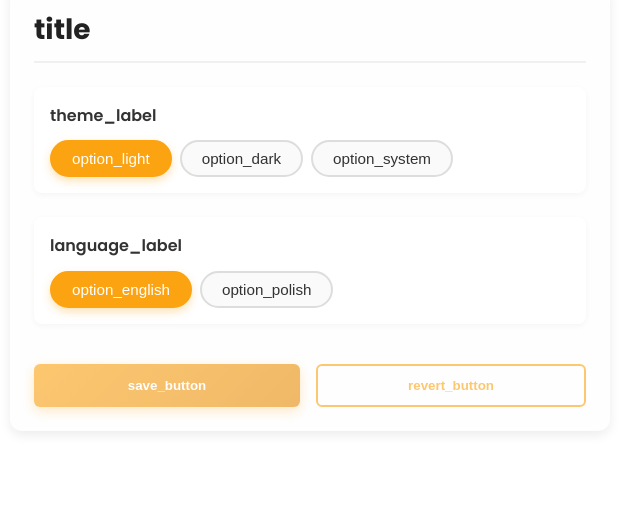
Scenario: <InterfaceSettings /> › saves settings when clicking Save
Click the button "option_dark" at (241, 159), box [180,140,303,177]
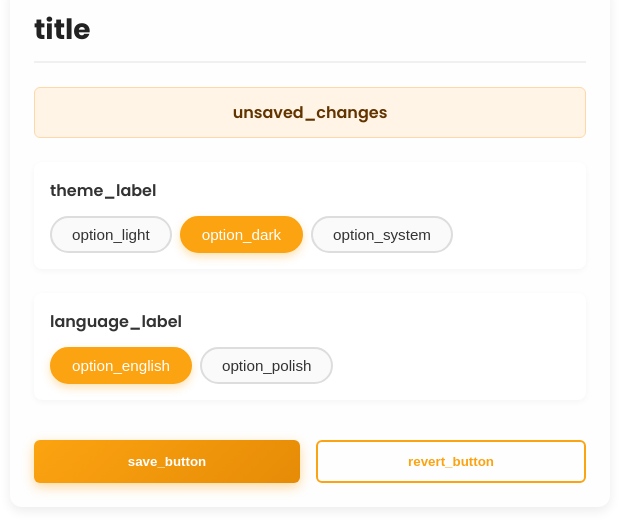
Click the button "option_polish" at (267, 365), box [200,347,334,384]
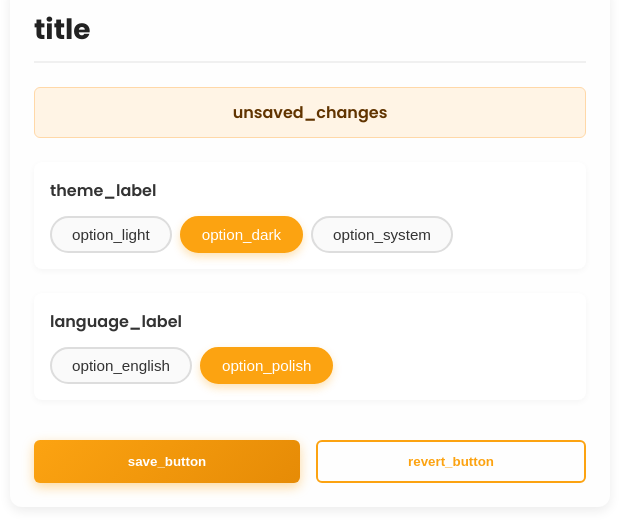
Click the button "save_button" at (167, 461), box [34,440,300,483]
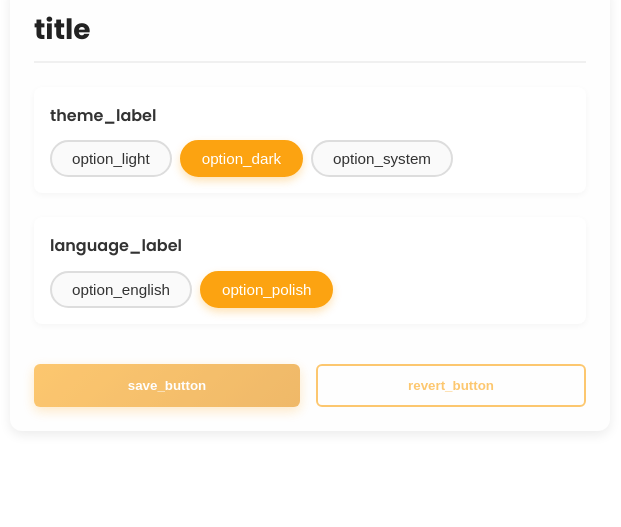
Expected: the text "unsaved_changes" is gone
Expected: the button "save_button" is disabled, [34,364,300,407]
Expected: the button "revert_button" is disabled, [316,364,586,407]
